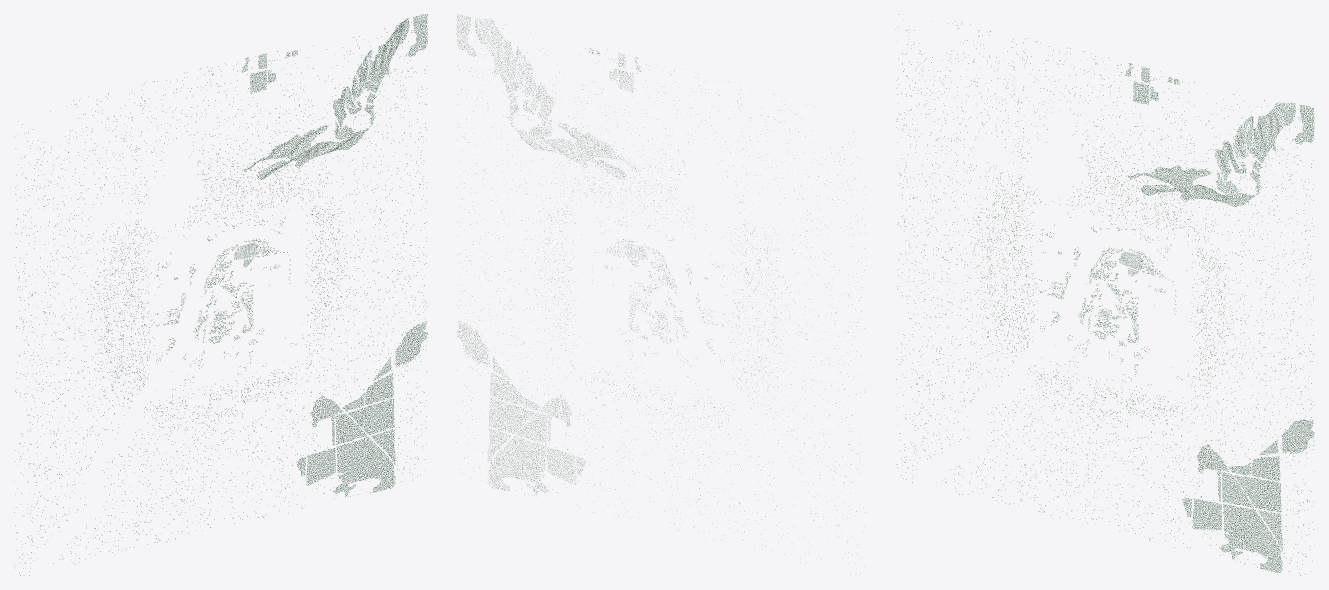
Rendered from trees.glb.
The picture shows the model from 3 angles, left to right: view 1: azimuth 30°, elevation 25°; view 2: azimuth 150°, elevation 25°; view 3: azimuth 330°, elevation 25°; orthographic projection. The views are drawn at different scales.
Parts seen in each view (by area): view 1: 0-scatter-presentation-orchard.glb; view 2: 0-scatter-presentation-orchard.glb; view 3: 0-scatter-presentation-orchard.glb.
Boxes of the visible parts, box(x1,y1,x2,y2) form: 0-scatter-presentation-orchard.glb: box(14, 14, 427, 575); 0-scatter-presentation-orchard.glb: box(456, 14, 865, 573); 0-scatter-presentation-orchard.glb: box(895, 14, 1314, 575).
Size of the model in its own units: 5140 by 5559 by 117.
